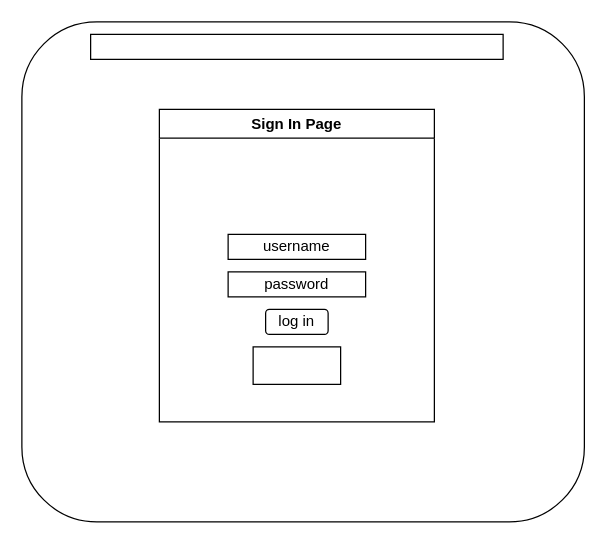
Some shapes in this 606 by 544 pixel diagram are drawn without their labels. Each missing label, with the centre of its shape:
"NAVBAR" goes at [296,46].
"toggle sign in/sign up" goes at [296,365].
